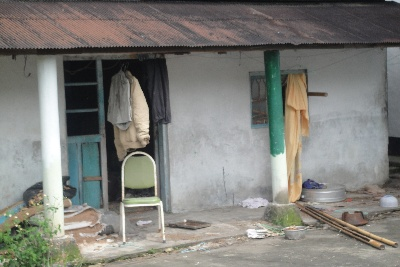bowl: (296, 179, 348, 202), (280, 222, 312, 240), (378, 193, 399, 210)
